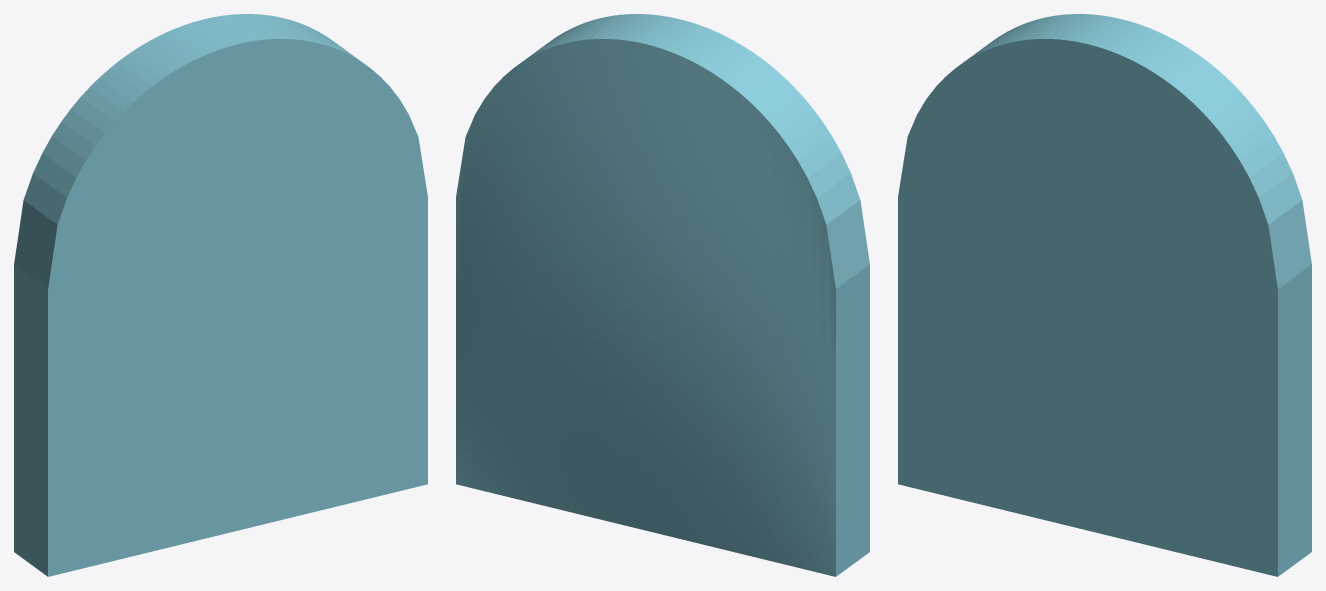
Rendered from glacier-seal.glb.
3 renders of one model, left to right at view 1: azimuth 30°, elevation 25°; view 2: azimuth 150°, elevation 25°; view 3: azimuth 330°, elevation 25°, orthographic.
Parts seen in each view (by area): view 1: Glacier thawable seal 0; view 2: Glacier thawable seal 0; view 3: Glacier thawable seal 0.
Boxes of the visible parts, bbox=[...] form: Glacier thawable seal 0: bbox=[14, 14, 427, 576]; Glacier thawable seal 0: bbox=[456, 14, 869, 576]; Glacier thawable seal 0: bbox=[898, 14, 1311, 576].
Size of the model in its own units: 3.35 by 4.1 by 0.69.
